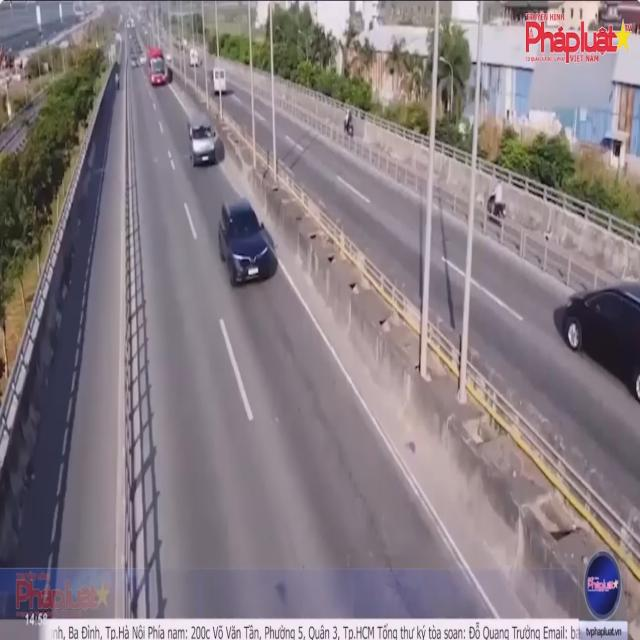car: (563, 270, 640, 408), (217, 196, 273, 289), (187, 112, 219, 167)
motorbike: (485, 180, 508, 222)
